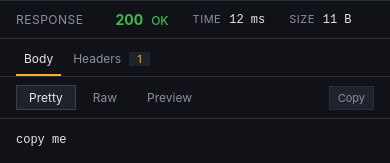
Test: ResponseViewer render branches › copies the body and shows the "Copied" confirmation on Copy (Req 4.12)
The Copy control starts as "Copy".
What coordinates should you click on to do the following:
click the button "Copy"
I would click on:
 (351, 98)
Its box is [329,86,374,110].
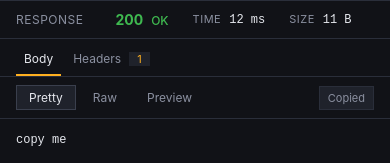
Result: the button "Copied" is shown at [319,86,374,110]
